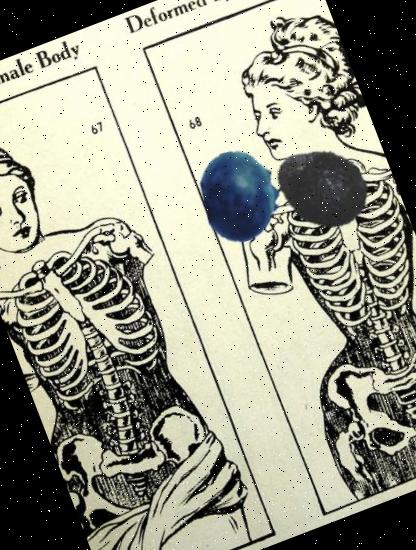Avocado: (259, 128, 382, 251)
Huckleberry: (182, 136, 300, 256)
